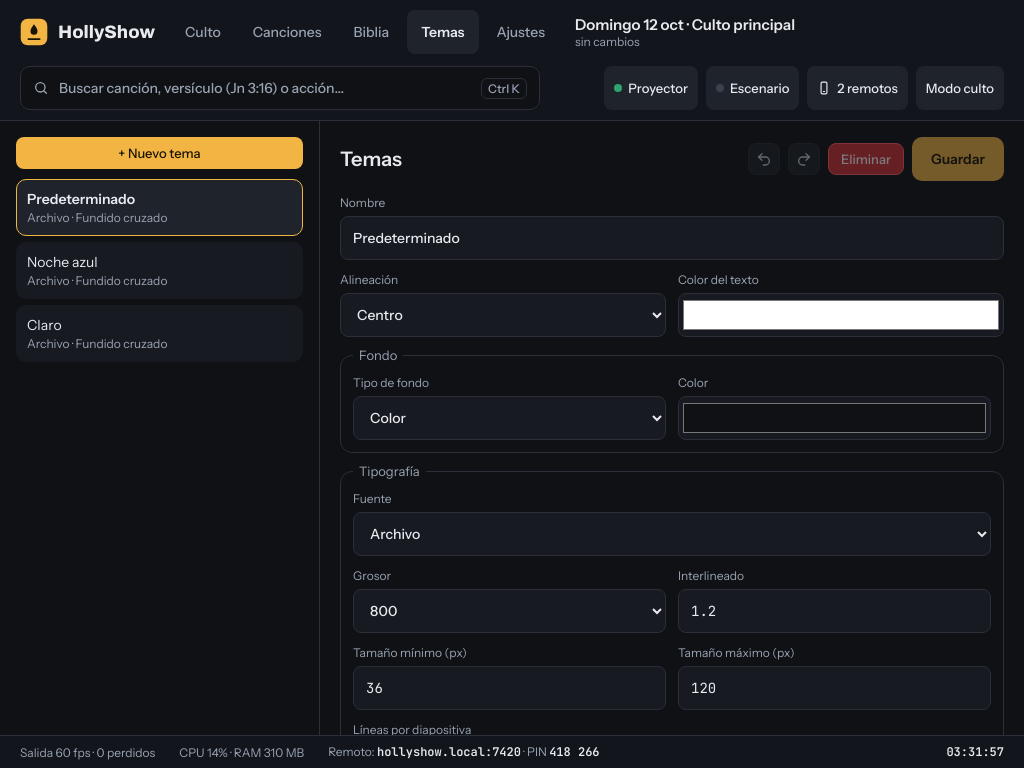
Test: themes › updates the live preview when the text color changes
This screenshot has width=1024, height=768.
Check: the button "Guardar" is disabled, box [912,137,1004,181]
In the field labelled "Nombre": x=672, y=238 [340,216,1004,260], type "x"
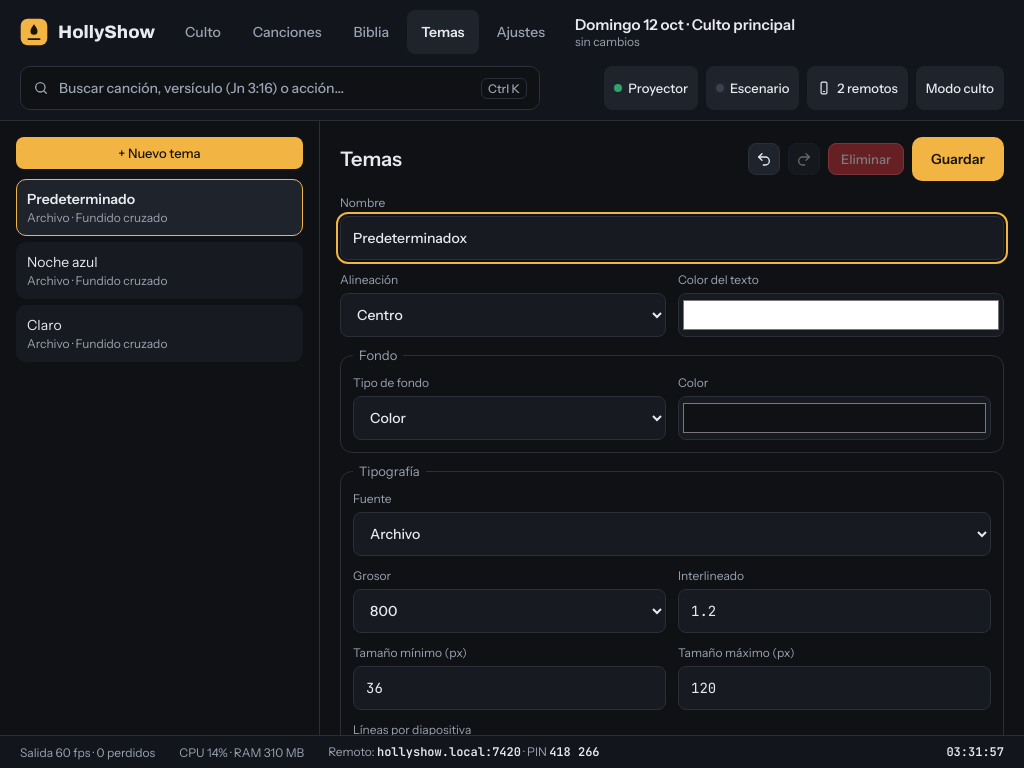
Check: the button "Guardar" is enabled, box [912,137,1004,181]
